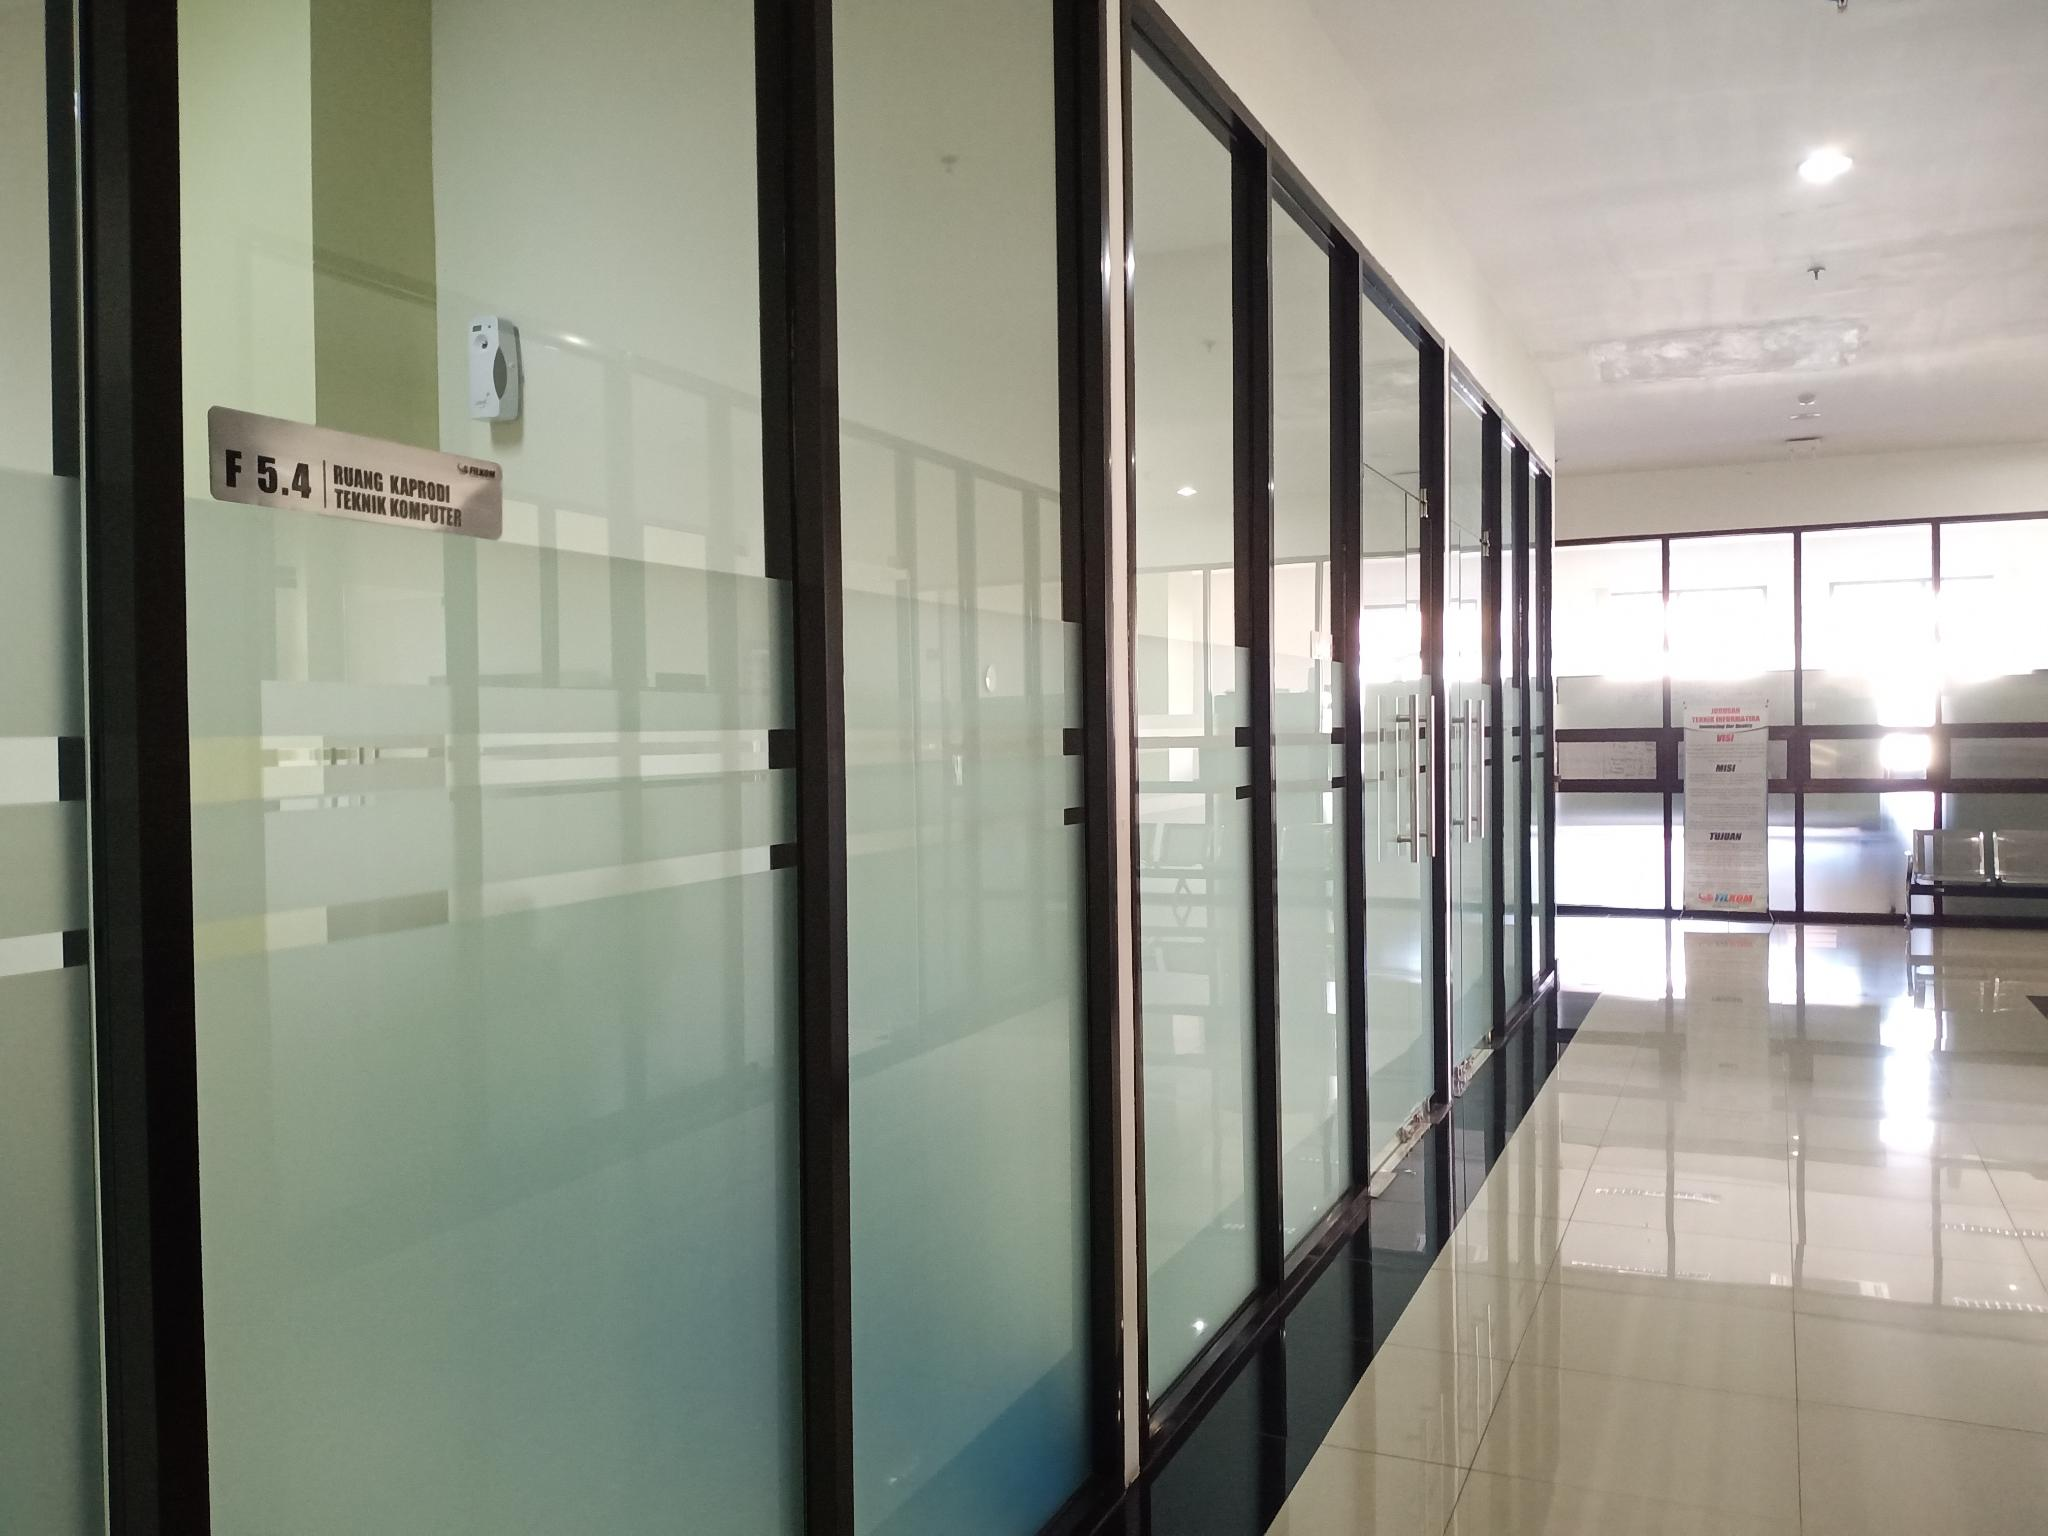plate: (206, 405, 503, 542)
